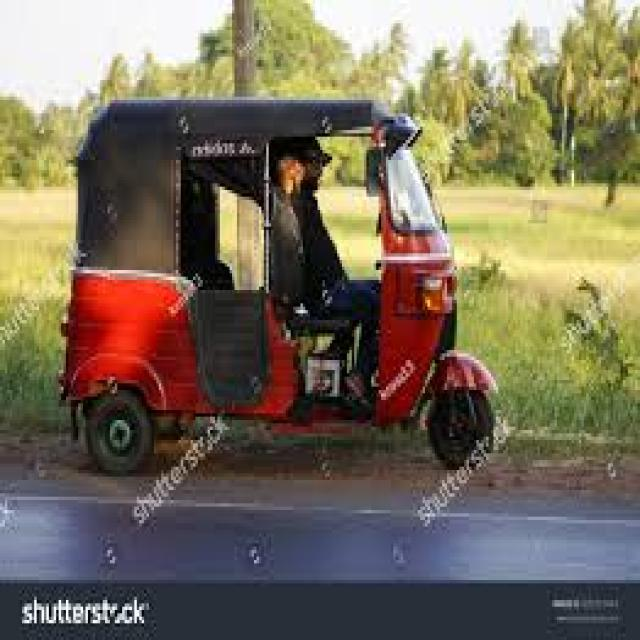person: (274, 137, 379, 320)
three wheeler: (61, 100, 491, 470)
